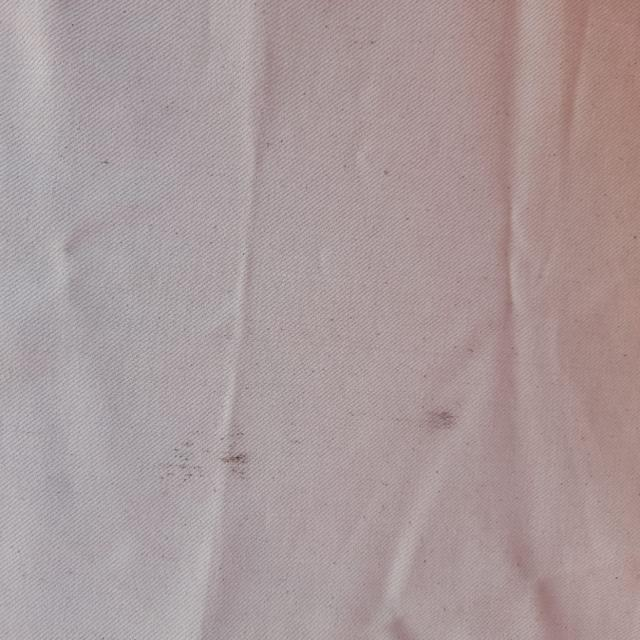taaaches: (162, 424, 248, 496), (416, 378, 465, 450)
